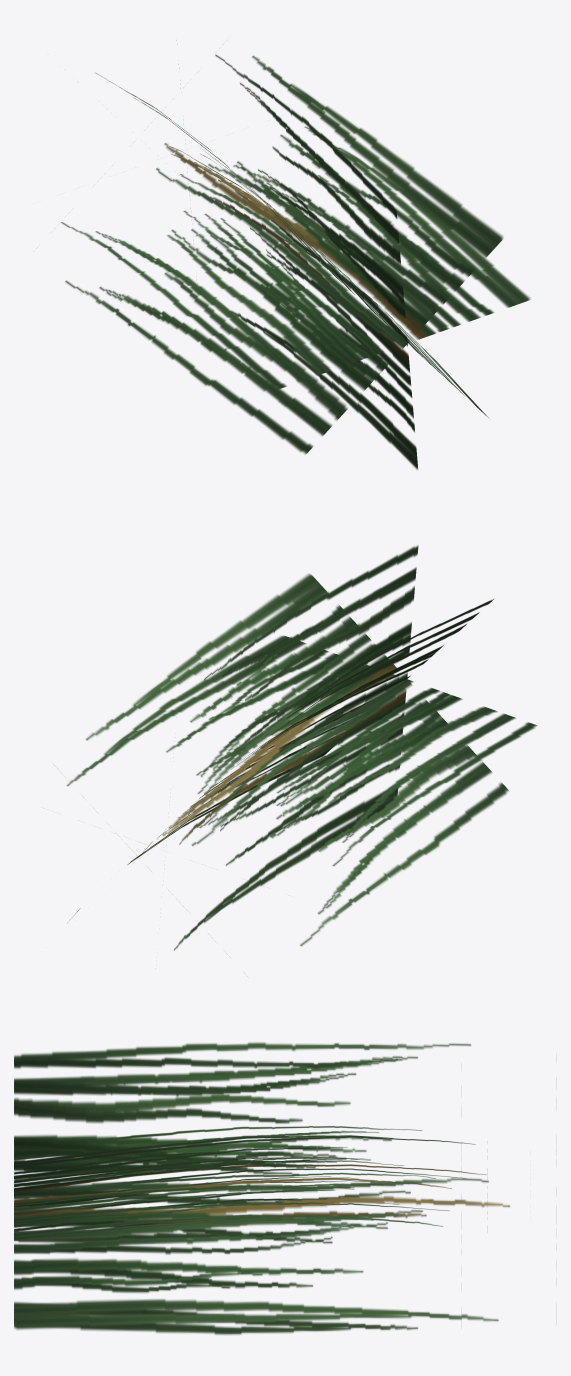
File: Tuft_Meadow.glb
The picture shows the model from 3 angles, top to bottom: view 1: azimuth 30°, elevation 25°; view 2: azimuth 150°, elevation 25°; view 3: azimuth 270°, elevation 25°; orthographic projection. The views are drawn at different scales.
Parts seen in each view (by area): view 1: Tuft_Meadow; view 2: Tuft_Meadow; view 3: Tuft_Meadow.
Boxes of the visible parts, x1,y1,x2,y2 form: Tuft_Meadow: (61, 54, 530, 469); Tuft_Meadow: (66, 545, 537, 950); Tuft_Meadow: (14, 1042, 509, 1334).
Bounding box in the file's own units: 0.1803 × 0.1804 × 0.2904.
1 material, 1 textured.
